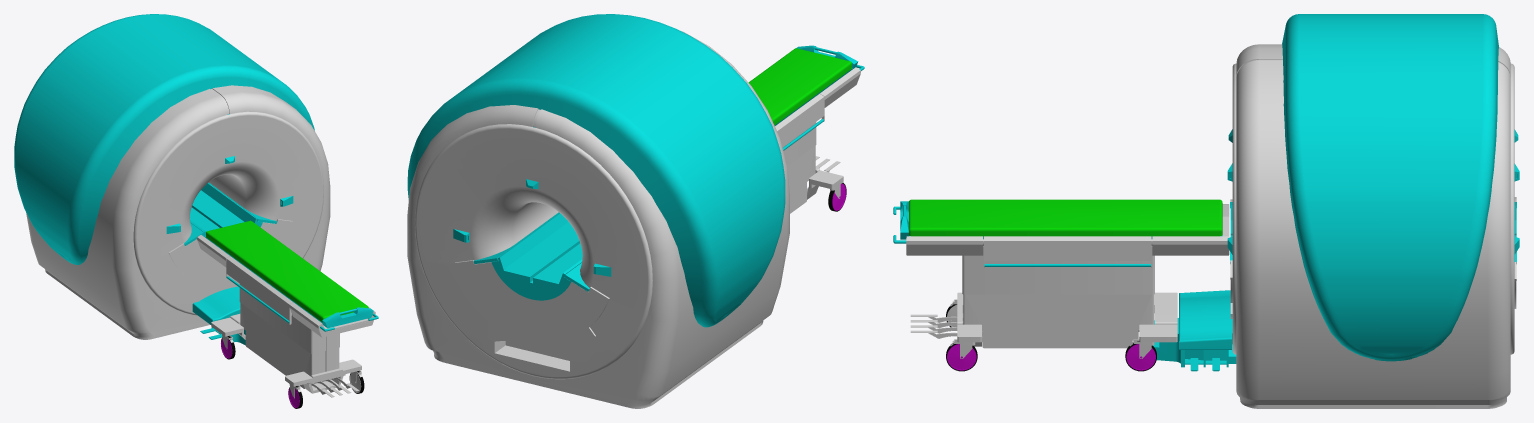
Rendered from MRI.fbx.
The picture shows the model from 3 angles, left to right: view 1: azimuth 30°, elevation 25°; view 2: azimuth 150°, elevation 25°; view 3: azimuth 270°, elevation 25°; orthographic projection. The views are drawn at different scales.
Visible parts, largest first — view 1: MRIBody, MRICart, MRIBed; view 2: MRIBody, MRICart, MRIBed; view 3: MRIBody, MRICart, MRIBed.
Boxes of the visible parts, x1,y1,x2,y2 form: MRIBody: (14,14,330,345); MRICart: (197,235,378,408); MRIBed: (205,220,373,328); MRIBody: (407,14,789,408); MRICart: (775,65,864,213); MRIBed: (748,45,858,125); MRIBody: (1153,14,1519,408); MRICart: (893,204,1229,371); MRIBed: (900,199,1222,239).
Bounding box in the file's own units: 246 × 228 × 408.
